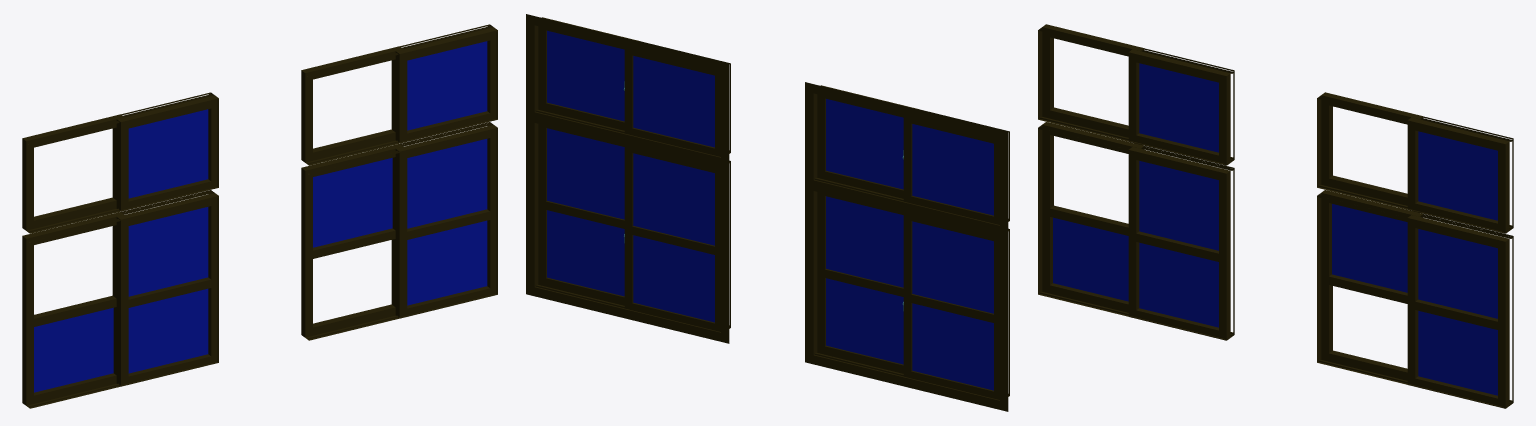
File: window2.fbx
3 renders of one model, left to right at view 1: azimuth 30°, elevation 25°; view 2: azimuth 150°, elevation 25°; view 3: azimuth 330°, elevation 25°, orthographic.
Visible parts, largest first — view 1: Object120; view 2: Object120; view 3: Object120.
Part boxes in pixels (x1,y1,x2,y2): Object120: (22, 24, 497, 408); Object120: (526, 14, 1009, 411); Object120: (1038, 24, 1513, 408).
Size of the model in its own units: 3.52 by 1.95 by 0.1207.
